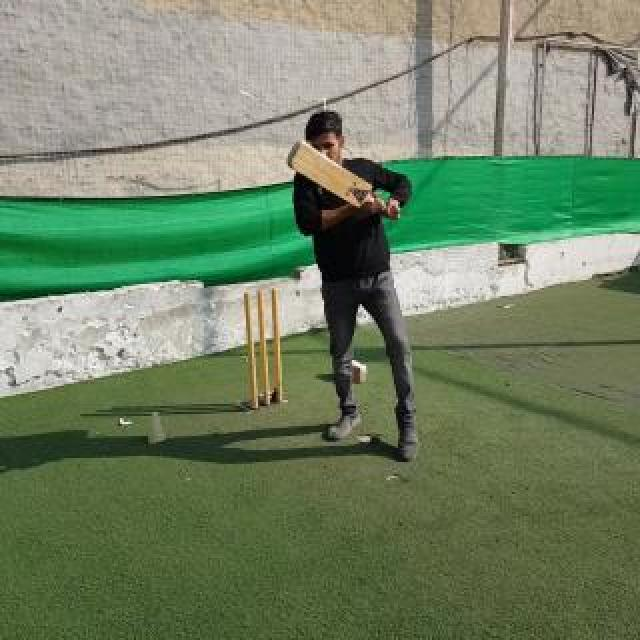bat: (288, 140, 402, 220)
